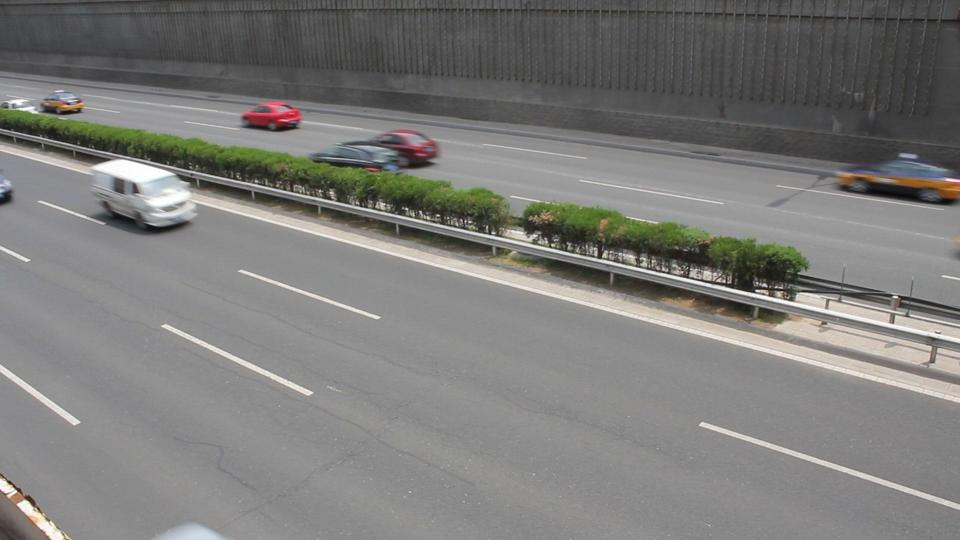Car: (832, 152, 947, 204), (303, 140, 401, 184), (363, 130, 437, 167), (241, 102, 300, 130), (41, 91, 83, 115)
Minivan: (92, 158, 195, 231)
